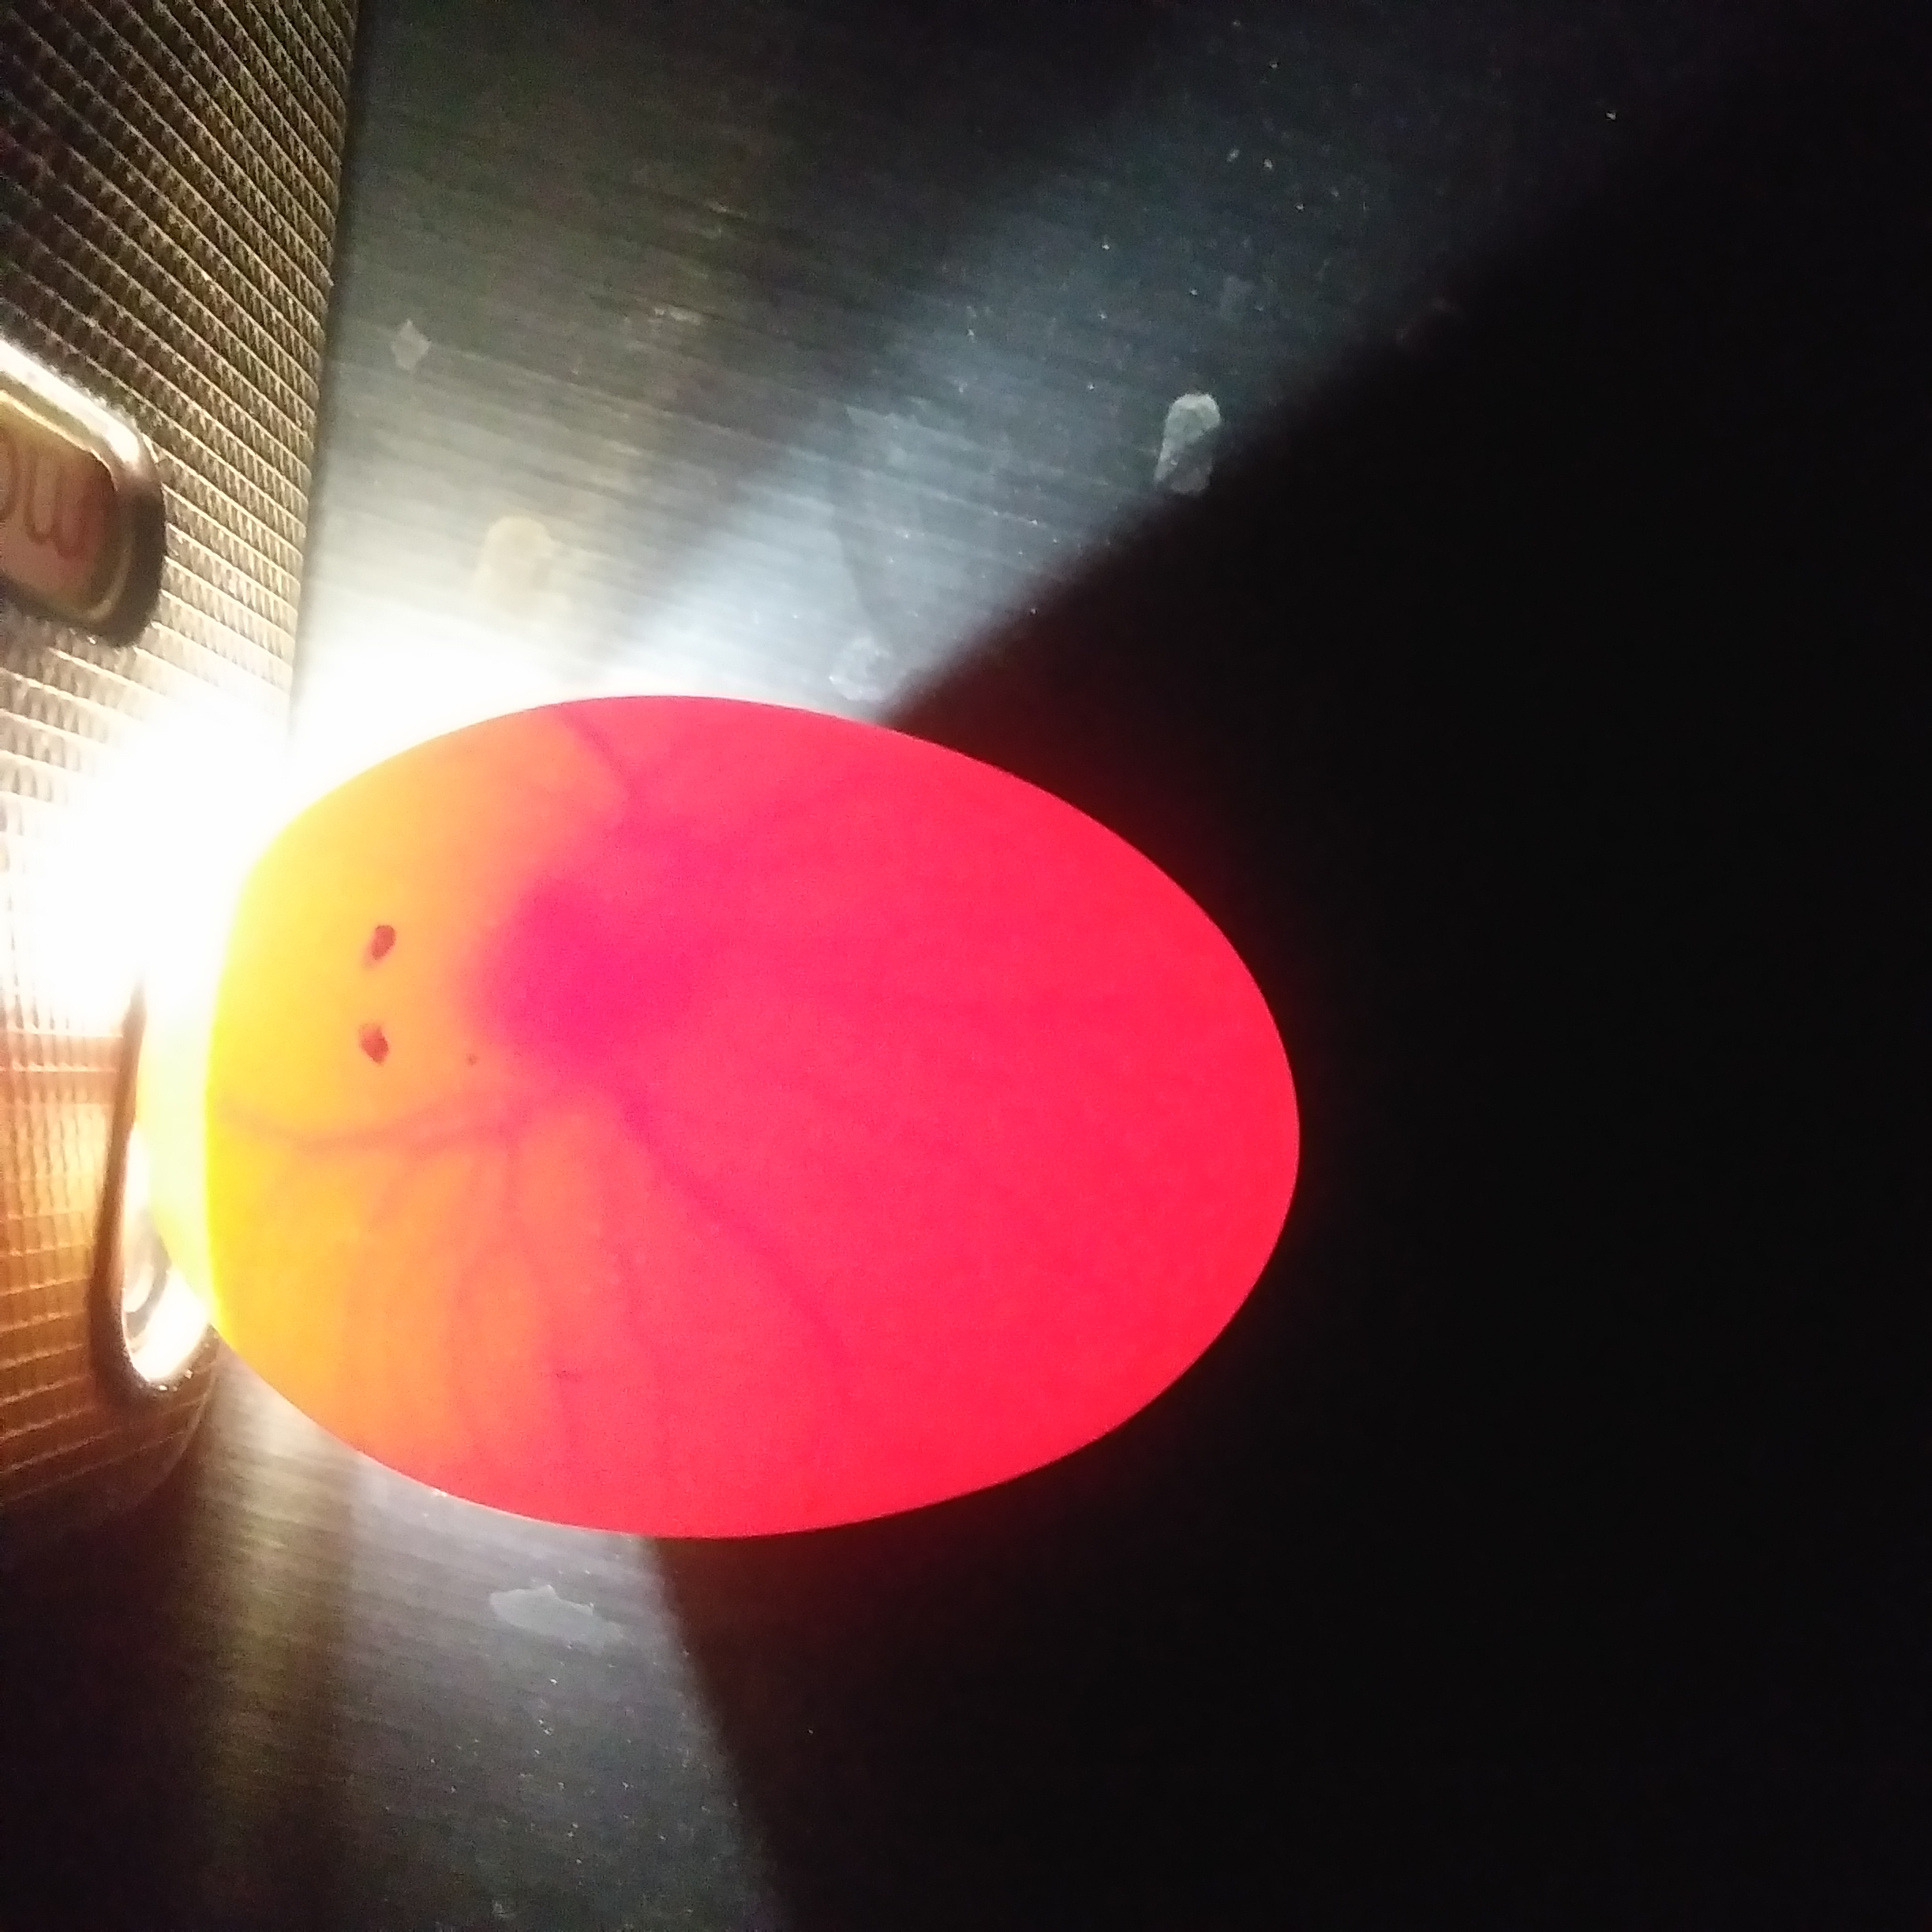bloodcell: (308, 1102, 913, 1453), (476, 738, 814, 865)
embryo: (483, 878, 658, 1076)
